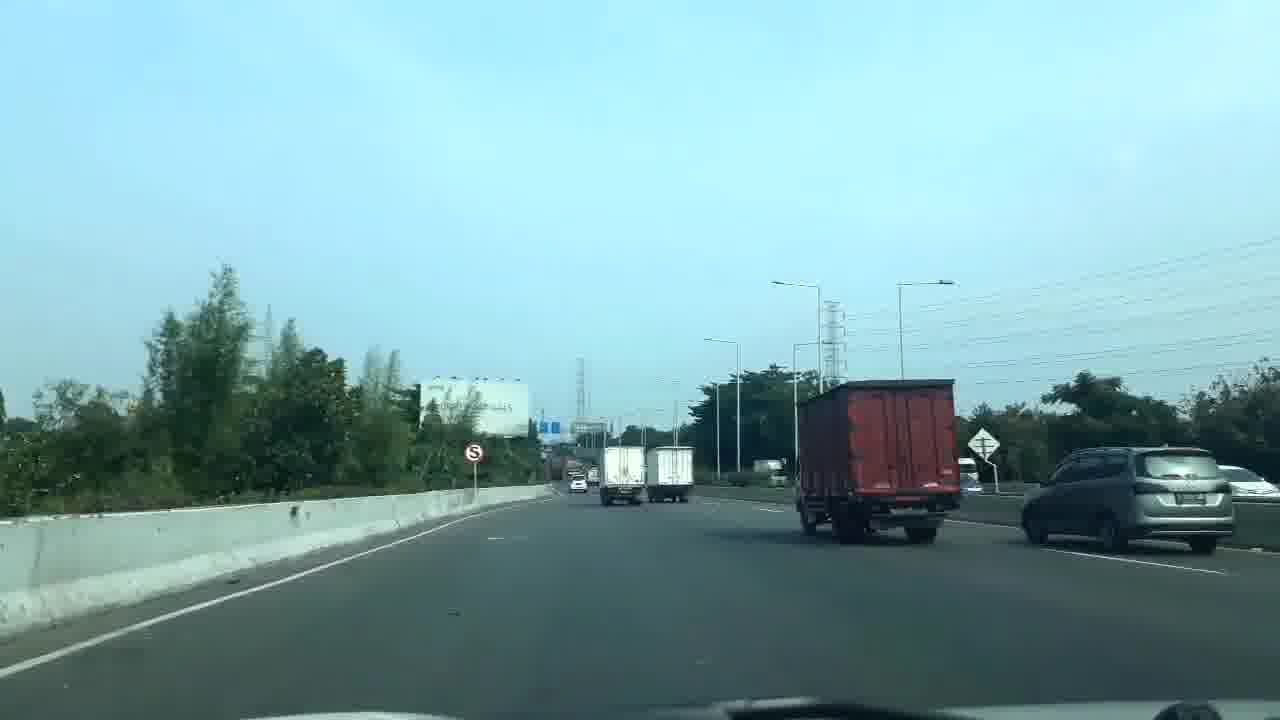plate_positive: (1176, 493, 1207, 505), (891, 506, 924, 516)
